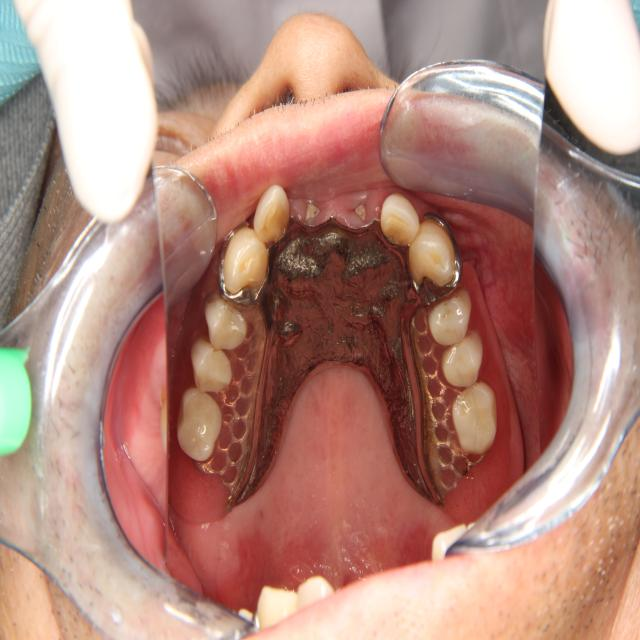tooth: (209, 221, 277, 308), (170, 382, 229, 468), (403, 215, 462, 301), (450, 376, 502, 459), (424, 285, 477, 351), (197, 292, 255, 352), (186, 337, 235, 402), (252, 175, 293, 252), (377, 189, 423, 255), (439, 328, 486, 391)
